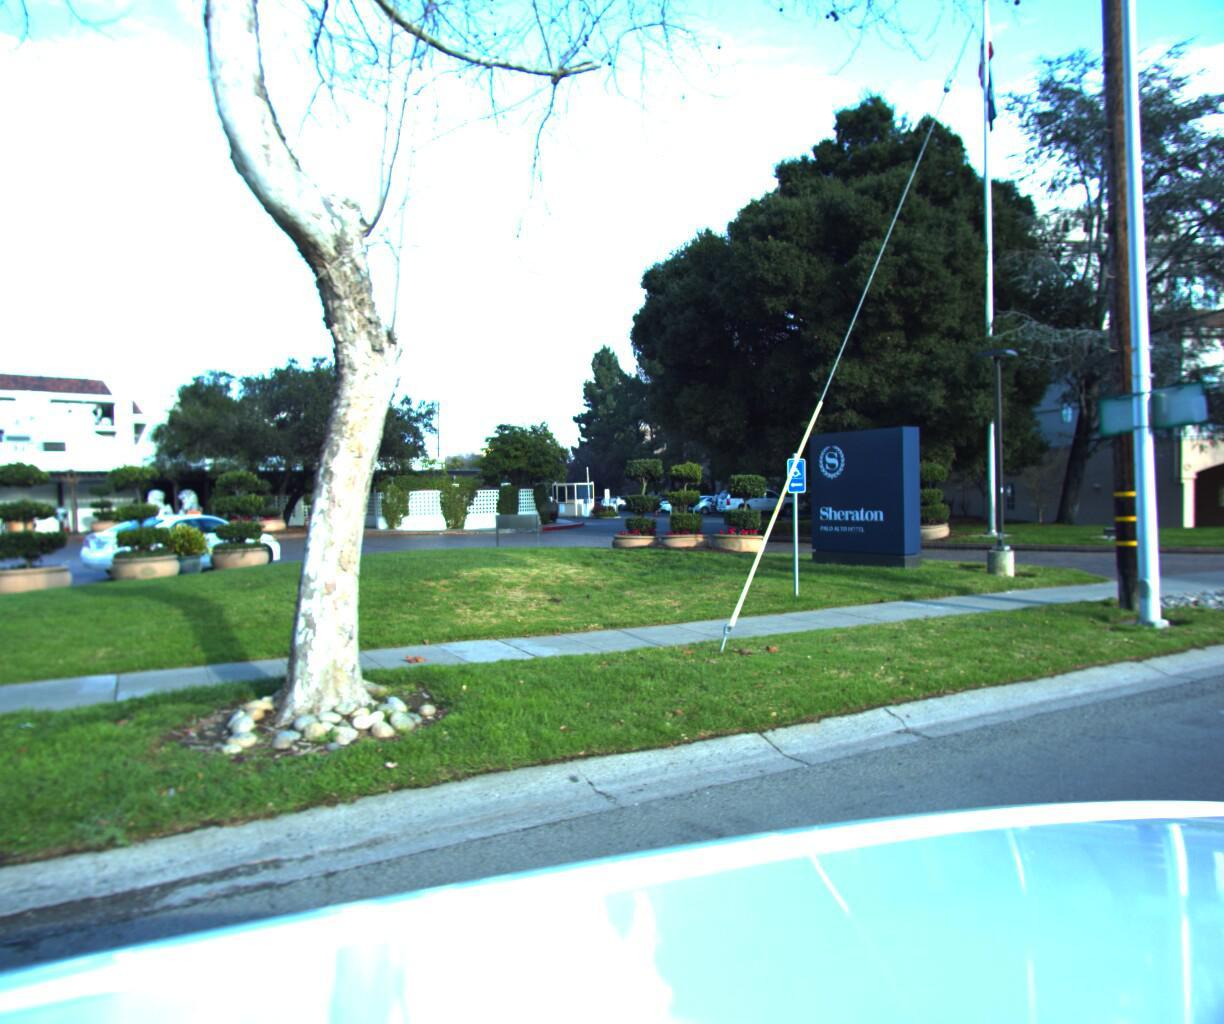car: (64, 506, 292, 585)
